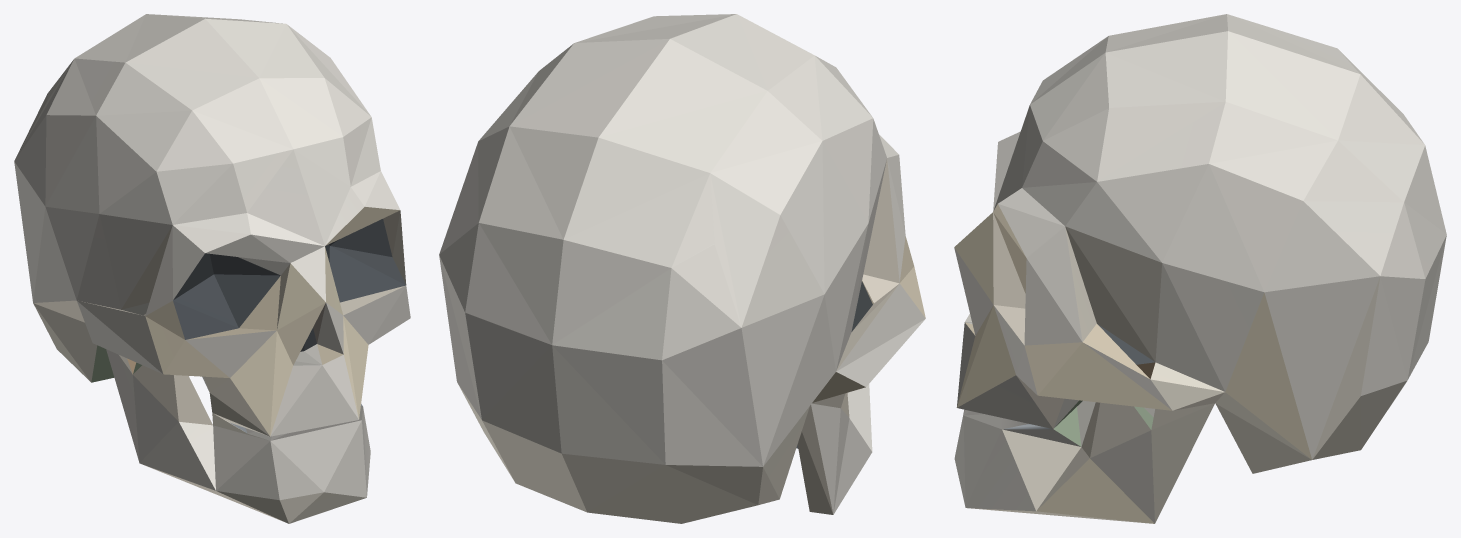
The model's file is mdvl_dungeon_skull_01.glb.
3 renders of one model, left to right at view 1: azimuth 30°, elevation 25°; view 2: azimuth 150°, elevation 25°; view 3: azimuth 270°, elevation 25°, orthographic. The views are drawn at different scales.
Visible parts, largest first — view 1: mdvl_dungeon_skull_01; view 2: mdvl_dungeon_skull_01; view 3: mdvl_dungeon_skull_01.
Boxes of the visible parts, x1,y1,x2,y2 form: mdvl_dungeon_skull_01: (14,14,410,523); mdvl_dungeon_skull_01: (439,14,925,523); mdvl_dungeon_skull_01: (954,14,1446,523).
Bounding box in the file's own units: 0.1182 × 0.1622 × 0.1567.
Materials: 1 (1 with a texture image).
